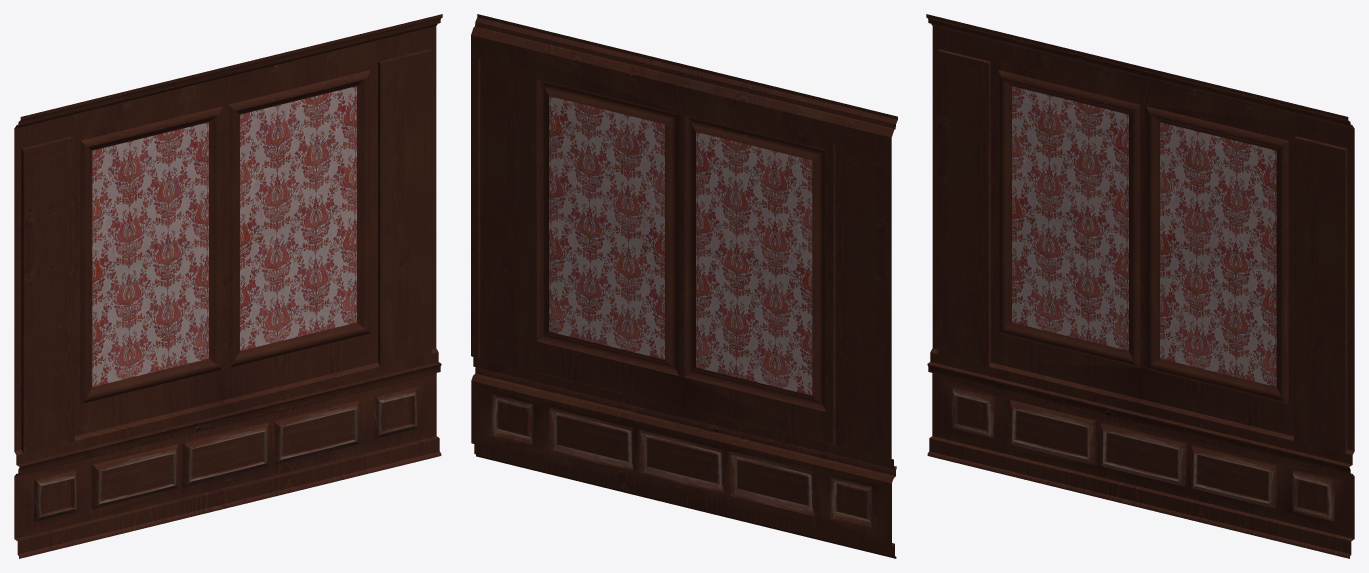
The model's file is wall_interior_2_pack.glb.
3 views of the same model, side by side, from view 1: azimuth 30°, elevation 25°; view 2: azimuth 150°, elevation 25°; view 3: azimuth 330°, elevation 25° (orthographic).
Parts seen in each view (by area): view 1: Walls_Wall_04; view 2: Walls_Wall_04; view 3: Walls_Wall_04.
Part boxes in pixels (x1,y1,x2,y2): Walls_Wall_04: (14, 14, 442, 558); Walls_Wall_04: (471, 14, 897, 558); Walls_Wall_04: (926, 14, 1354, 558).
Size of the model in its own units: 4 by 4.01 by 0.1156.
Materials: 1 (1 with a texture image).
